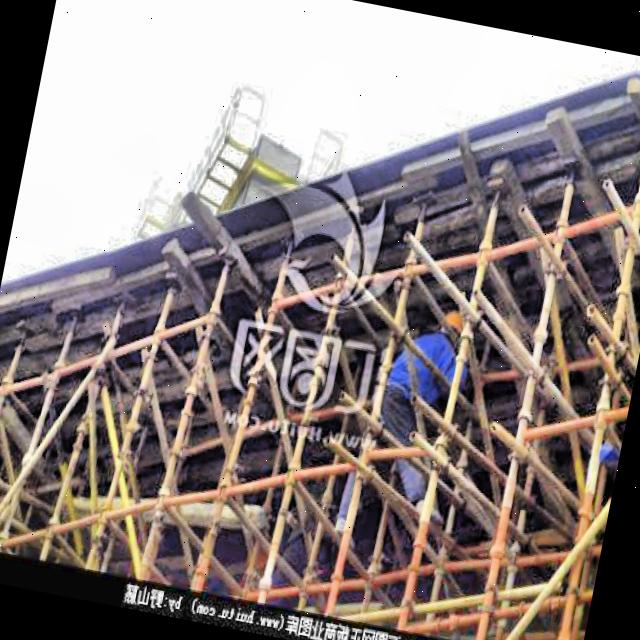helmet: (433, 294, 481, 349)
